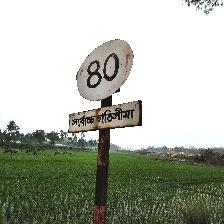Speed-limit: (69, 37, 141, 133)
